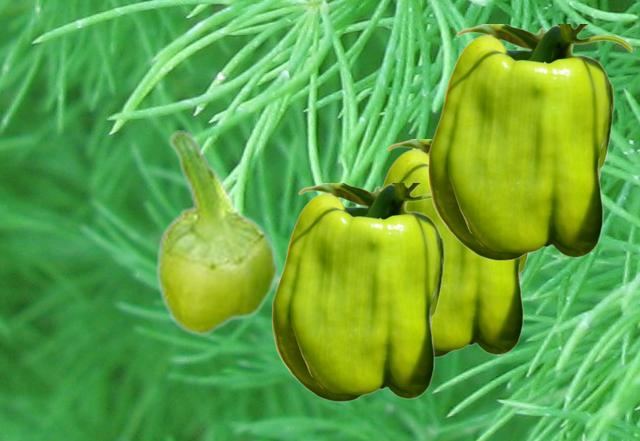bell_pepper: (427, 24, 632, 260), (271, 183, 445, 401), (381, 139, 528, 357), (155, 130, 278, 335)
